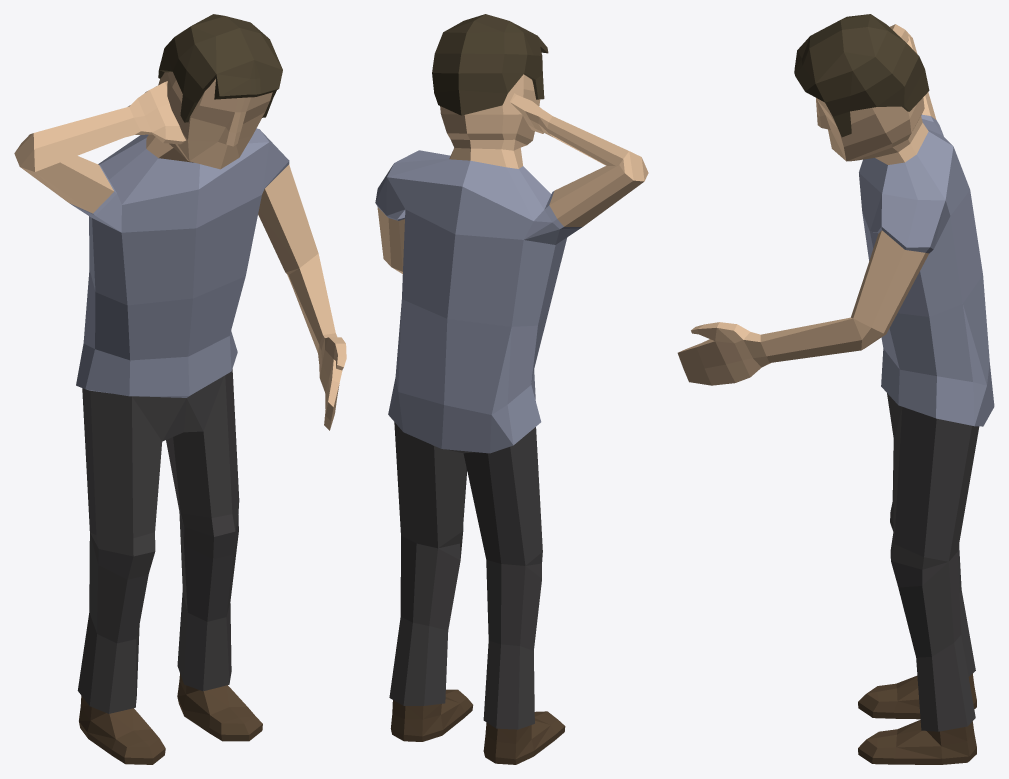
File: Male_DJ_RightEar.glb
The picture shows the model from 3 angles, left to right: view 1: azimuth 30°, elevation 25°; view 2: azimuth 150°, elevation 25°; view 3: azimuth 270°, elevation 25°; orthographic projection. The views are drawn at different scales.
Visible parts, largest first — view 1: Male_DJ_RightEar; view 2: Male_DJ_RightEar; view 3: Male_DJ_RightEar.
Boxes of the visible parts, x1=… form: Male_DJ_RightEar: x1=14, y1=14, x2=346, y2=764; Male_DJ_RightEar: x1=375, y1=14, x2=648, y2=764; Male_DJ_RightEar: x1=677, y1=14, x2=994, y2=764.
Bounding box in the file's own units: 0.7235 × 1.76 × 0.7034.
